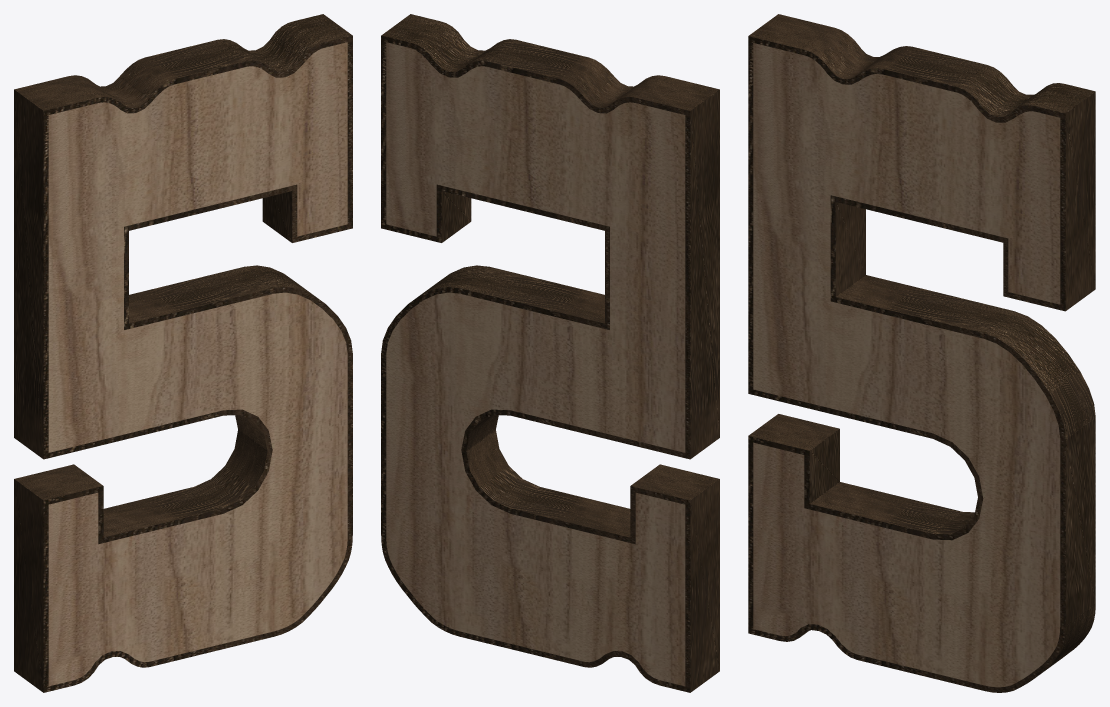
3 views of the same model, side by side, from view 1: azimuth 30°, elevation 25°; view 2: azimuth 150°, elevation 25°; view 3: azimuth 330°, elevation 25° (orthographic). The views are drawn at different scales.
Visible parts, largest first — view 1: 5, 5_outline; view 2: 5, 5_outline; view 3: 5, 5_outline.
Boxes of the visible parts, <box> form: 5: <box>48,42,347,686</box>; 5_outline: <box>14,14,352,692</box>; 5: <box>386,42,685,686</box>; 5_outline: <box>381,14,719,692</box>; 5: <box>753,43,1060,687</box>; 5_outline: <box>748,14,1095,692</box>.
Size of the model in its own units: 60.5 by 109 by 10.
Materials: 2 (2 with a texture image).
